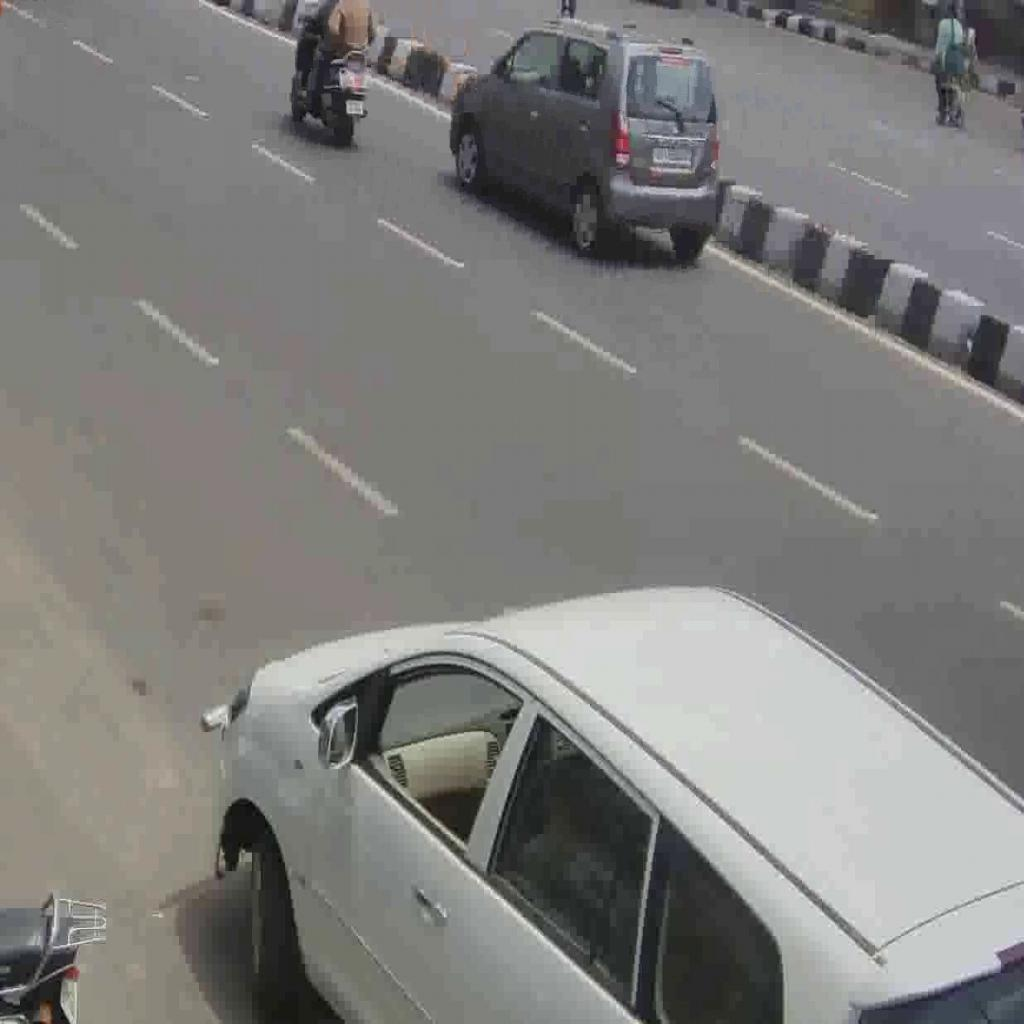helmet: (290, 13, 370, 148)
